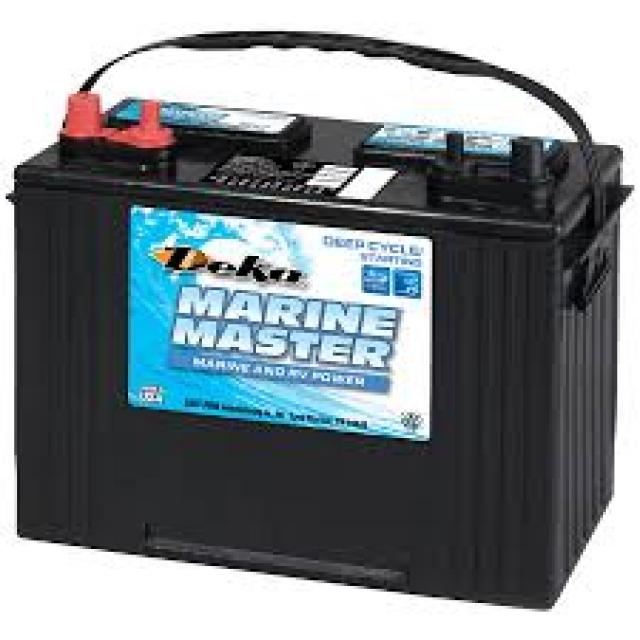non-organic waste: (3, 35, 636, 608)
